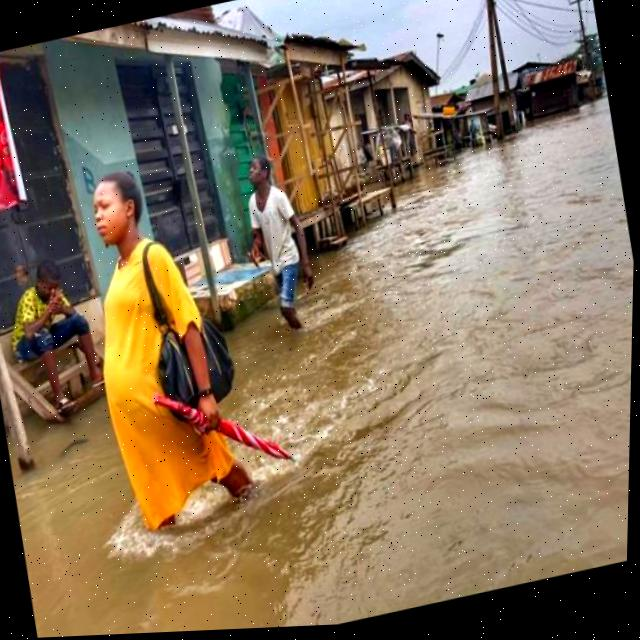civilian: (43, 130, 310, 563), (212, 131, 345, 358), (0, 228, 123, 433)
